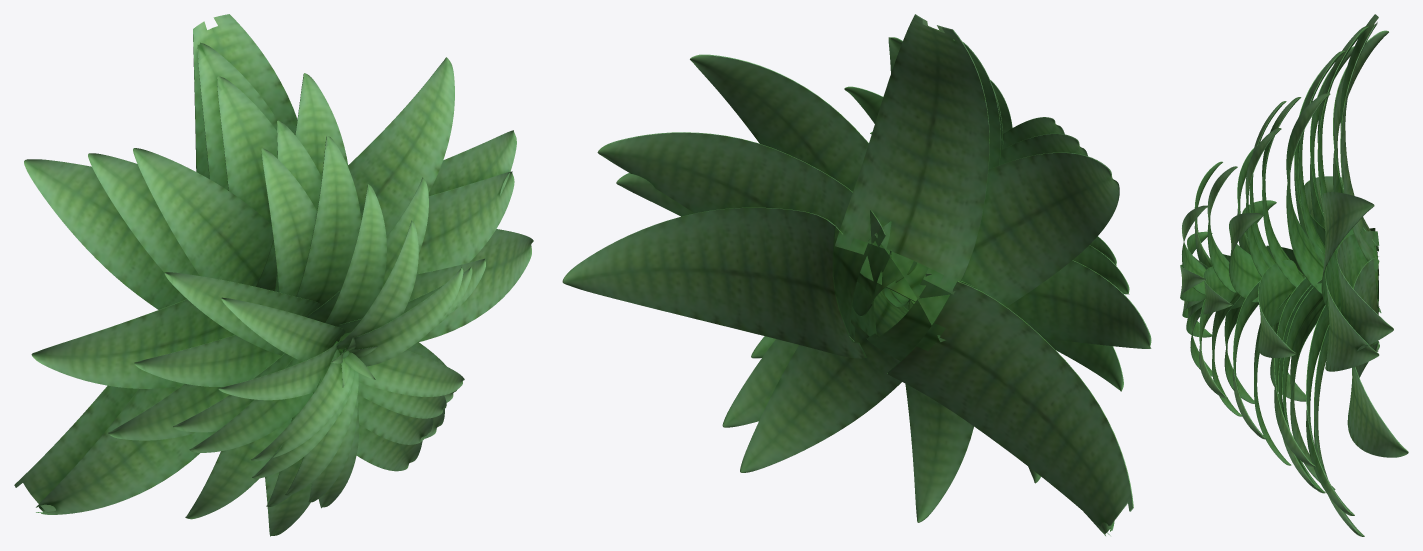
File: leafs2.glb
3 views of the same model, side by side, from view 1: azimuth 30°, elevation 25°; view 2: azimuth 150°, elevation 25°; view 3: azimuth 270°, elevation 25° (orthographic). The views are drawn at different scales.
Visible parts, largest first — view 1: 10443_Fern_v2_max2011_it2; view 2: 10443_Fern_v2_max2011_it2; view 3: 10443_Fern_v2_max2011_it2.
Part boxes in pixels (x1,y1,x2,y2): 10443_Fern_v2_max2011_it2: (14, 14, 533, 536); 10443_Fern_v2_max2011_it2: (562, 14, 1151, 535); 10443_Fern_v2_max2011_it2: (1180, 14, 1408, 536).
Bounding box in the file's own units: 113 × 103 × 46.96.
Materials: 1 (1 with a texture image).
